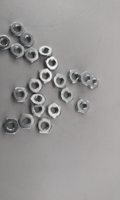nut: (37, 118, 53, 135), (3, 119, 19, 135), (24, 47, 39, 64), (46, 103, 62, 118), (10, 22, 25, 38), (20, 114, 35, 129), (10, 44, 25, 59), (12, 88, 28, 102), (76, 98, 90, 114), (61, 87, 75, 103), (31, 93, 46, 107), (28, 78, 42, 93), (21, 33, 35, 48), (40, 69, 53, 85), (45, 57, 59, 71), (80, 72, 93, 87), (32, 104, 45, 118), (54, 74, 67, 88), (39, 46, 53, 59), (68, 70, 81, 84), (0, 35, 11, 51), (90, 75, 99, 89)
